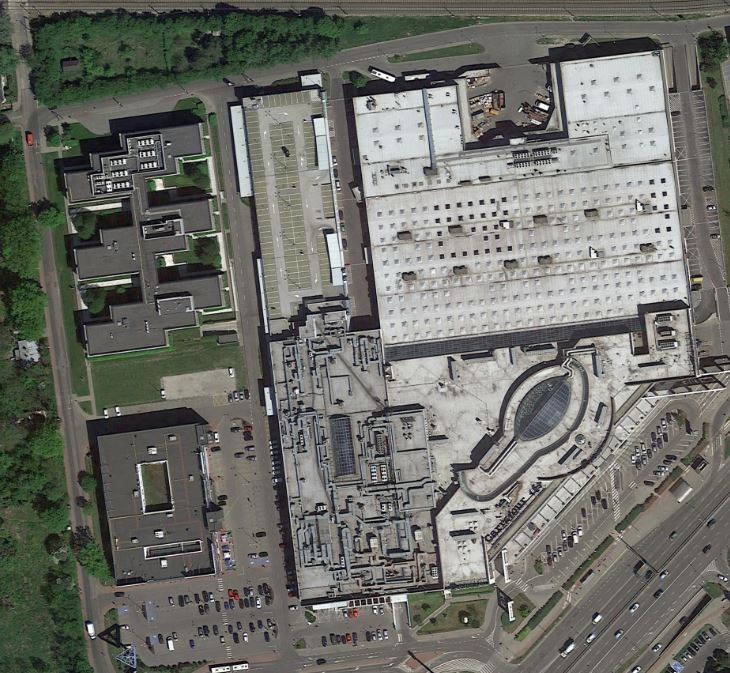shopping_center: (234, 42, 692, 609), (55, 117, 231, 363), (94, 418, 220, 593)
